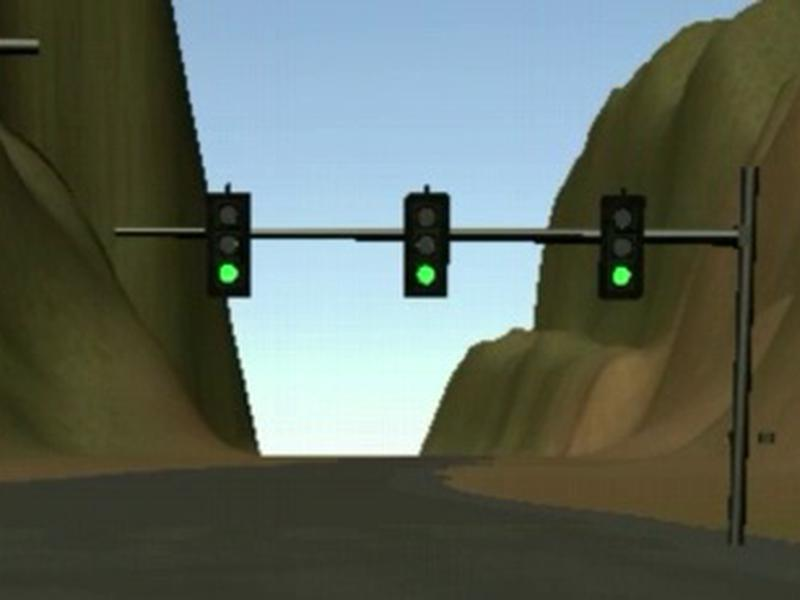Green: (599, 195, 646, 299), (404, 192, 449, 298), (207, 193, 251, 297)
